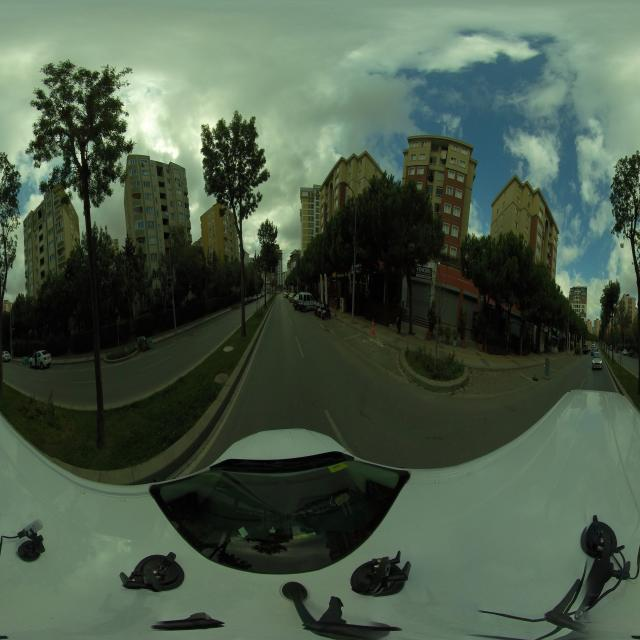SignStore: (416, 266, 431, 280)
